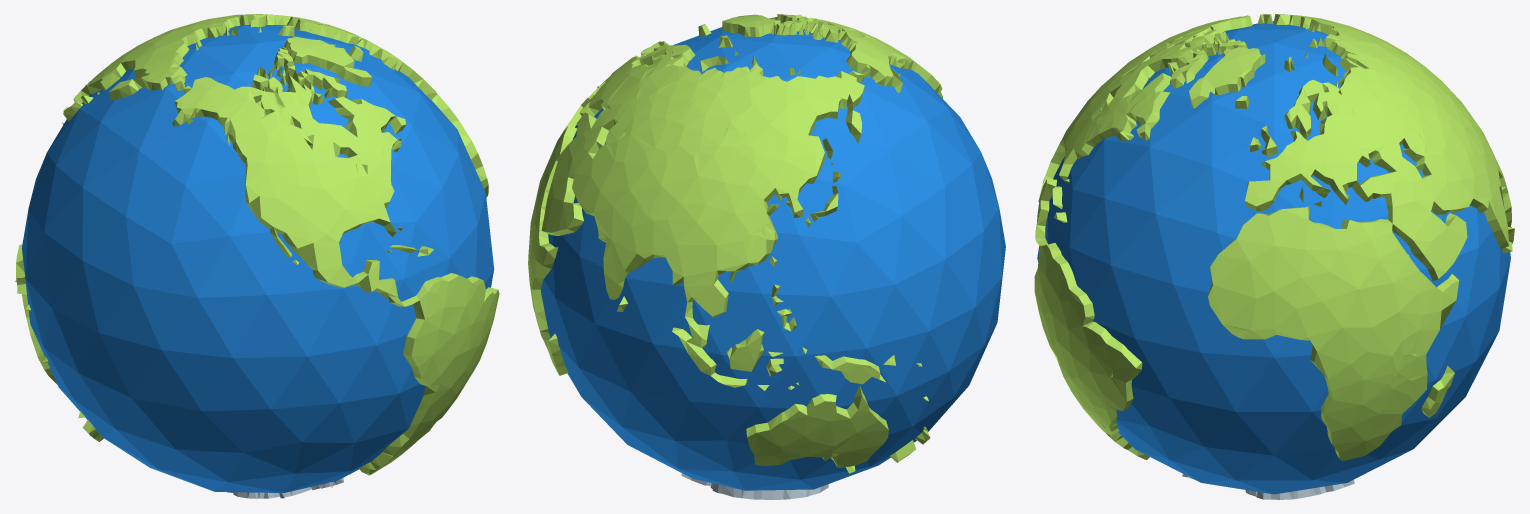
The model's file is low_poly_earth.glb.
The picture shows the model from 3 angles, left to right: view 1: azimuth 30°, elevation 25°; view 2: azimuth 150°, elevation 25°; view 3: azimuth 270°, elevation 25°; orthographic projection.
Parts seen in each view (by area): view 1: Low Poly Earth; view 2: Low Poly Earth; view 3: Low Poly Earth.
Boxes of the visible parts, x1=… form: Low Poly Earth: x1=15, y1=14, x2=499, y2=499; Low Poly Earth: x1=528, y1=14, x2=1005, y2=499; Low Poly Earth: x1=1034, y1=14, x2=1514, y2=499.
Size of the model in its own units: 2.02 by 2.05 by 2.03.
